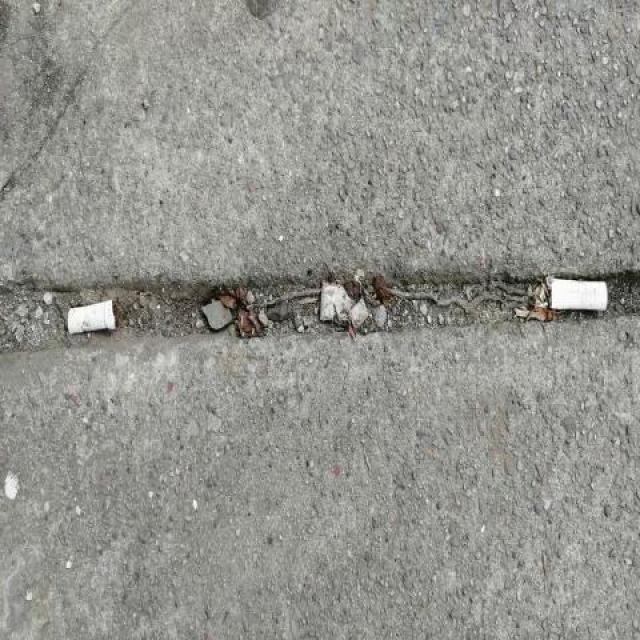non-organic waste: (64, 294, 124, 338), (545, 276, 610, 316)
